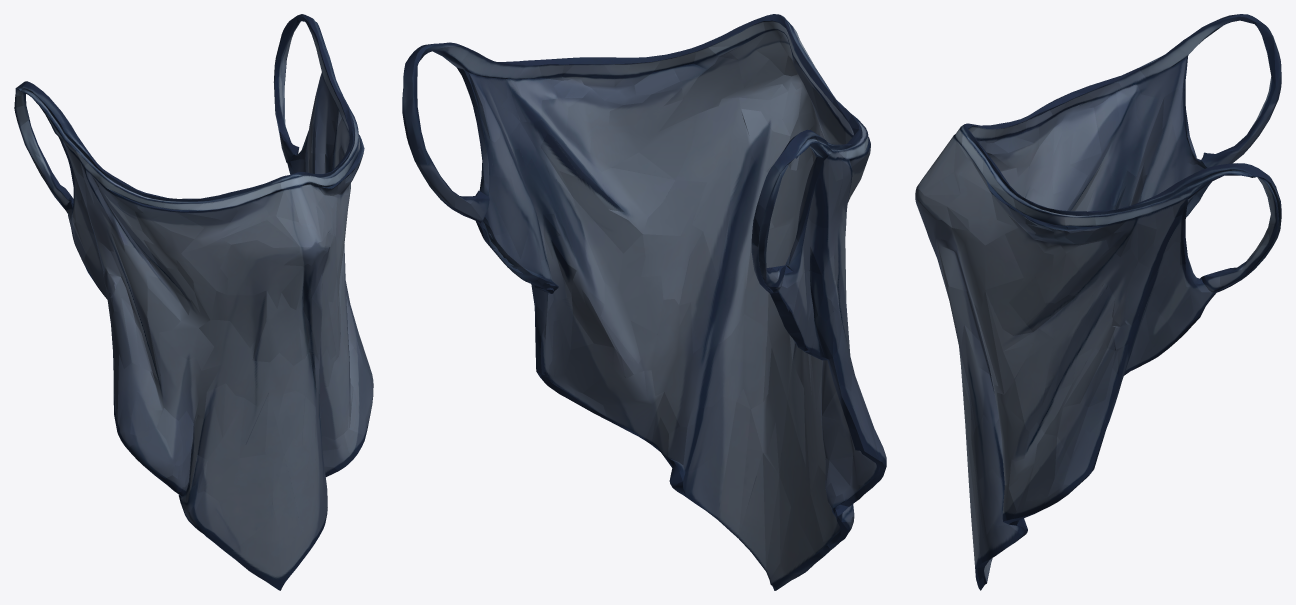
Rendered from nerith_f-masque-3-long-voile.glb.
The picture shows the model from 3 angles, left to right: view 1: azimuth 30°, elevation 25°; view 2: azimuth 150°, elevation 25°; view 3: azimuth 270°, elevation 25°; orthographic projection. The views are drawn at different scales.
Parts seen in each view (by area): view 1: geometry_0; view 2: geometry_0; view 3: geometry_0.
Boxes of the visible parts, left/top/right/bottom form: geometry_0: left=14, top=14, right=373, bottom=590; geometry_0: left=402, top=14, right=886, bottom=590; geometry_0: left=915, top=14, right=1281, bottom=590.
Bounding box in the file's own units: 1.28 × 1.9 × 1.25.
1 material, 1 textured.
